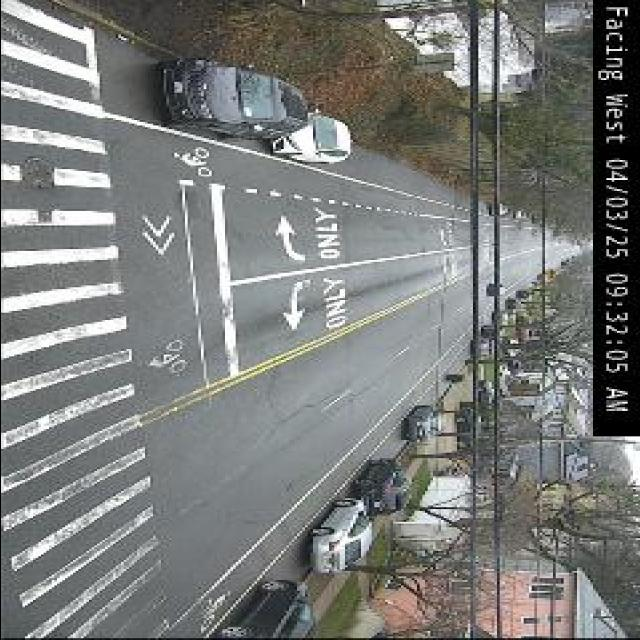open parking: (337, 98, 501, 212), (271, 535, 346, 613), (360, 414, 434, 480)
parkedCars: (91, 356, 495, 640), (107, 34, 538, 220)
